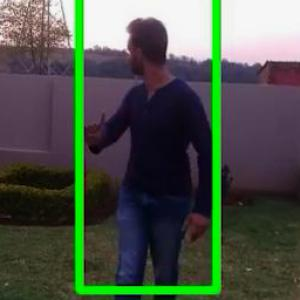takeoff-hand: (71, 110, 109, 151)
